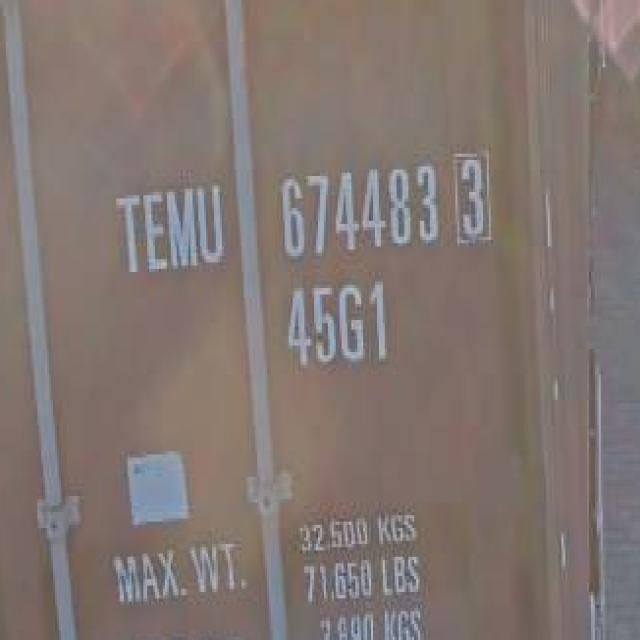dv: (446, 140, 508, 256)
owner: (104, 160, 230, 285)
serial: (268, 132, 438, 262)
size: (276, 269, 396, 374)
